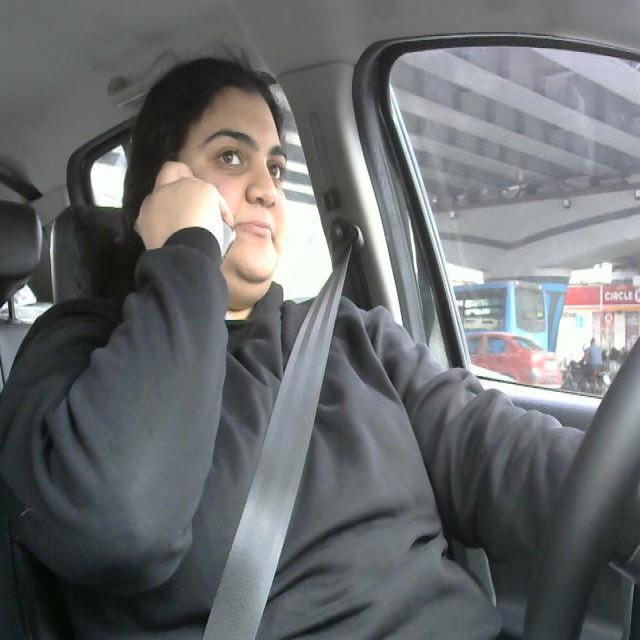mobile use: (138, 182, 242, 298)
